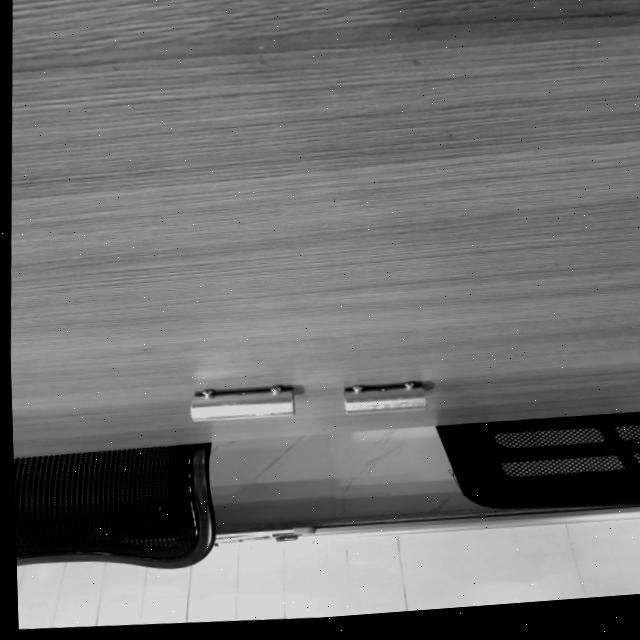Co_Lon: (188, 383, 294, 421)
Co_Nho: (342, 380, 425, 413)
